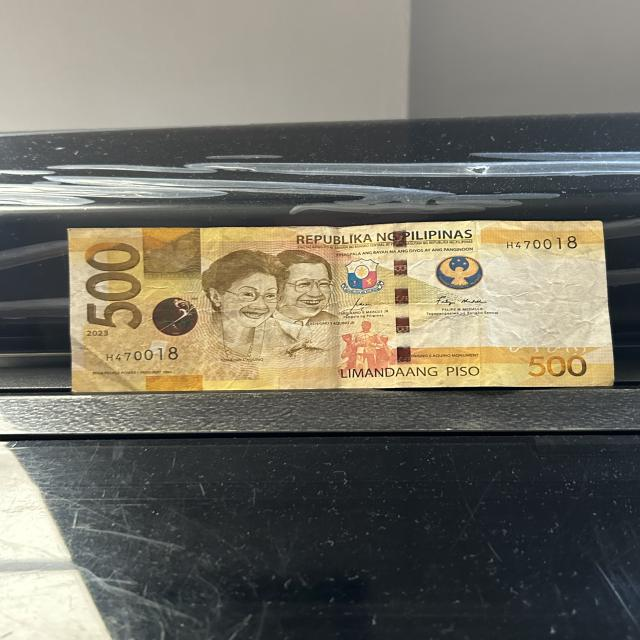concealed_value: (144, 231, 208, 278)
optically_variable_device: (150, 298, 202, 338)
watermark: (484, 247, 606, 350)
